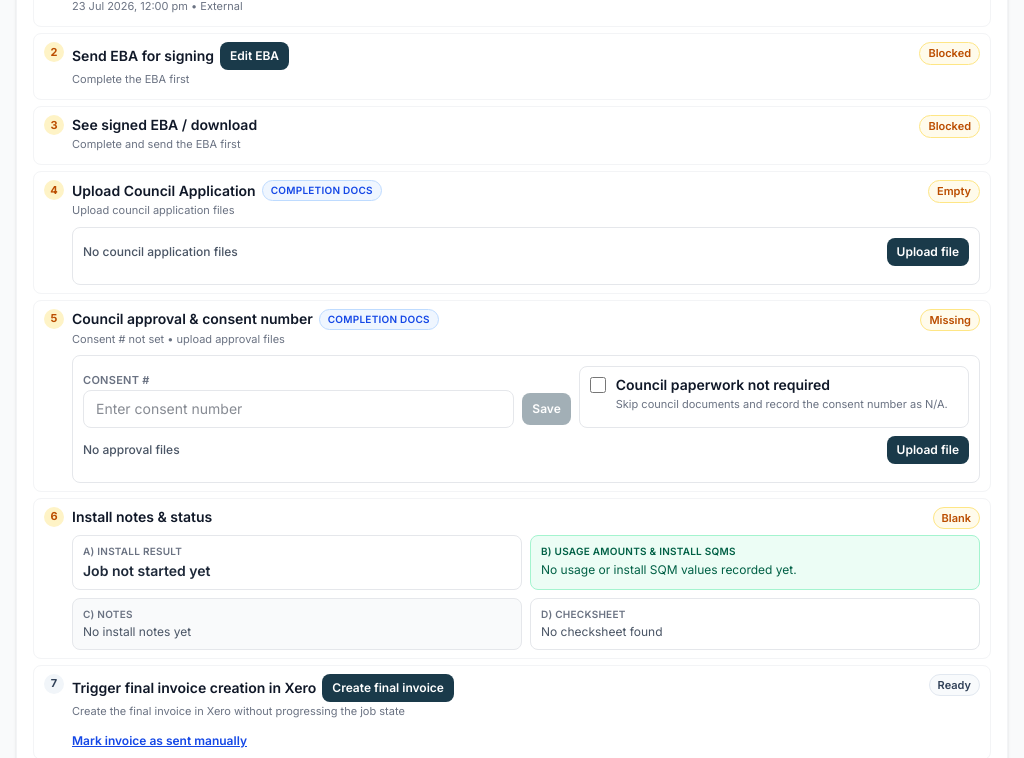
saves N/A on ticking the council exception and enables the completion pack with no council files
(page scrolled)
Click the checkbox labelled "Council paperwork not required" at (598, 385), box [590, 377, 606, 393]
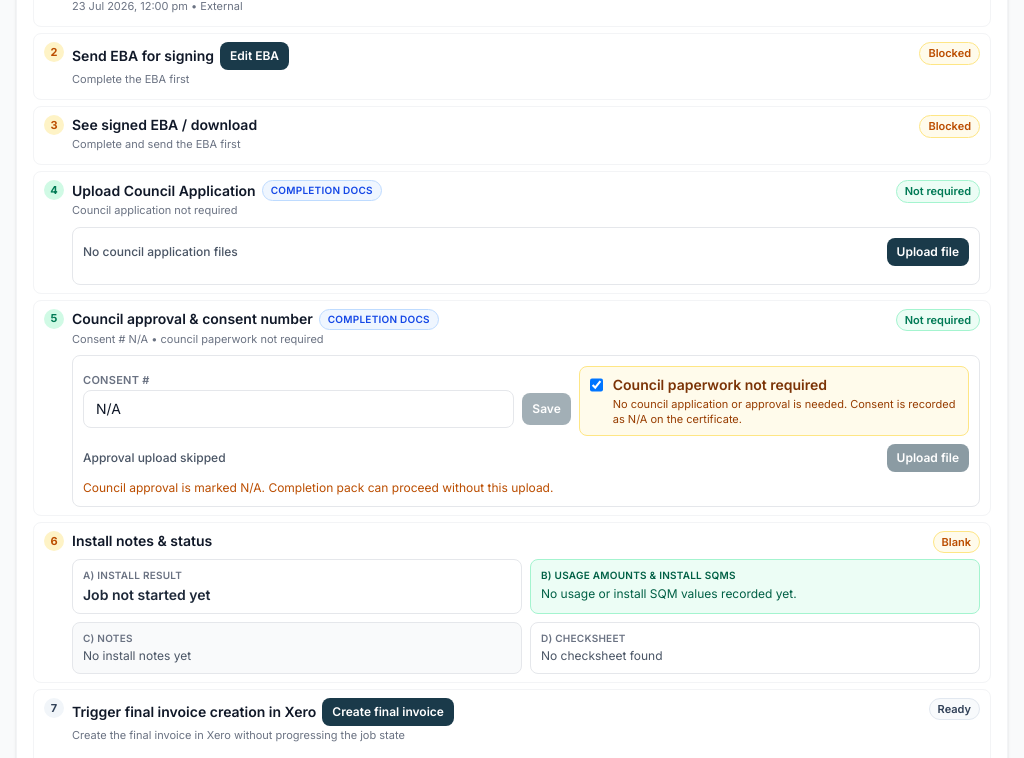
Check: the field labelled "Consent #" holds "N/A", box [83, 390, 514, 428]
